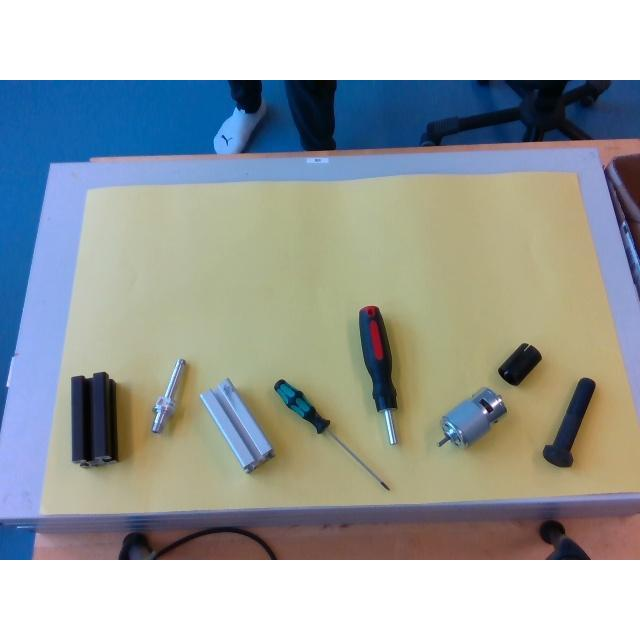M20_100: (542, 378, 594, 467)
Motor2: (438, 387, 506, 447)
S40_40_B: (71, 372, 117, 466)
S40_40_G: (202, 380, 274, 472)
Screwdriver: (274, 379, 390, 491)
